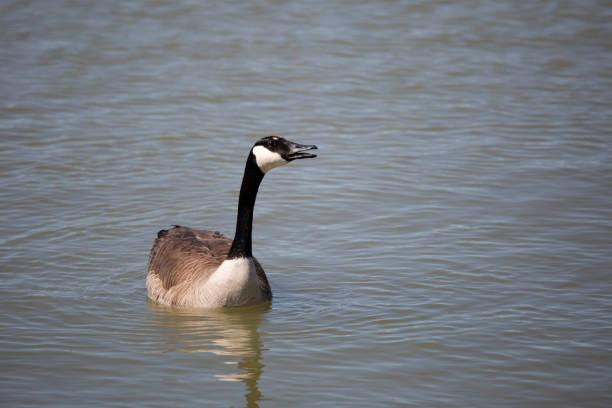Canadian-Goose: (147, 134, 319, 308)
